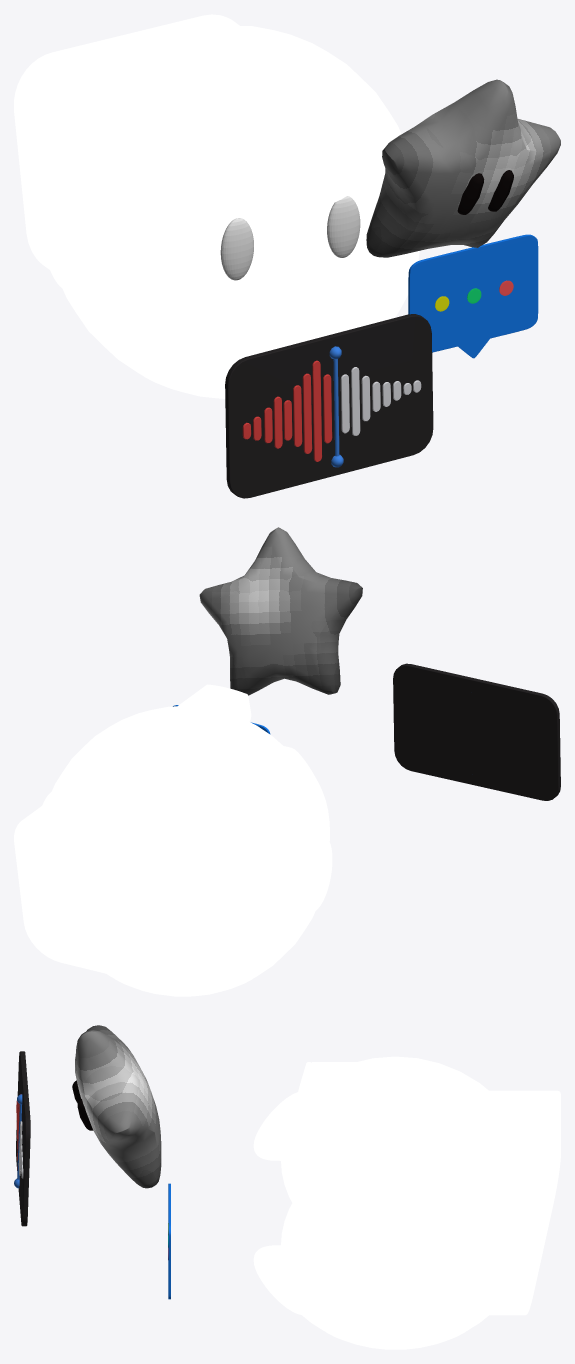
Rendered from robot1018(4).glb.
3 renders of one model, top to bottom at view 1: azimuth 30°, elevation 25°; view 2: azimuth 150°, elevation 25°; view 3: azimuth 270°, elevation 25°, orthographic. The views are drawn at different scales.
Parts seen in each view (by area): view 1: robot, blackMaterial, star, chat, redMaterial, whiteMaterial, SphereRight, SphereLeft, blueMaterial; view 2: robot, blackMaterial, star; view 3: robot, star, blackMaterial.
Boxes of the visible parts, x1=… form: robot: x1=14, y1=14, x2=419, y2=398; blackMaterial: x1=225, y1=314, x2=433, y2=498; star: x1=366, y1=79, x2=560, y2=257; chat: x1=408, y1=234, x2=538, y2=358; redMaterial: x1=242, y1=360, x2=332, y2=461; whiteMaterial: x1=340, y1=367, x2=421, y2=435; SphereRight: x1=220, y1=218, x2=253, y2=280; SphereLeft: x1=327, y1=196, x2=360, y2=257; blueMaterial: x1=329, y1=346, x2=343, y2=467; robot: x1=14, y1=684, x2=332, y2=996; blackMaterial: x1=393, y1=663, x2=560, y2=800; star: x1=199, y1=527, x2=362, y2=695; robot: x1=253, y1=1056, x2=560, y2=1349; star: x1=72, y1=1025, x2=161, y2=1188; blackMaterial: x1=16, y1=1051, x2=30, y2=1226.
Size of the model in its own units: 0.3812 by 0.3666 by 0.5596.
Materials: 8 (2 with a texture image).
